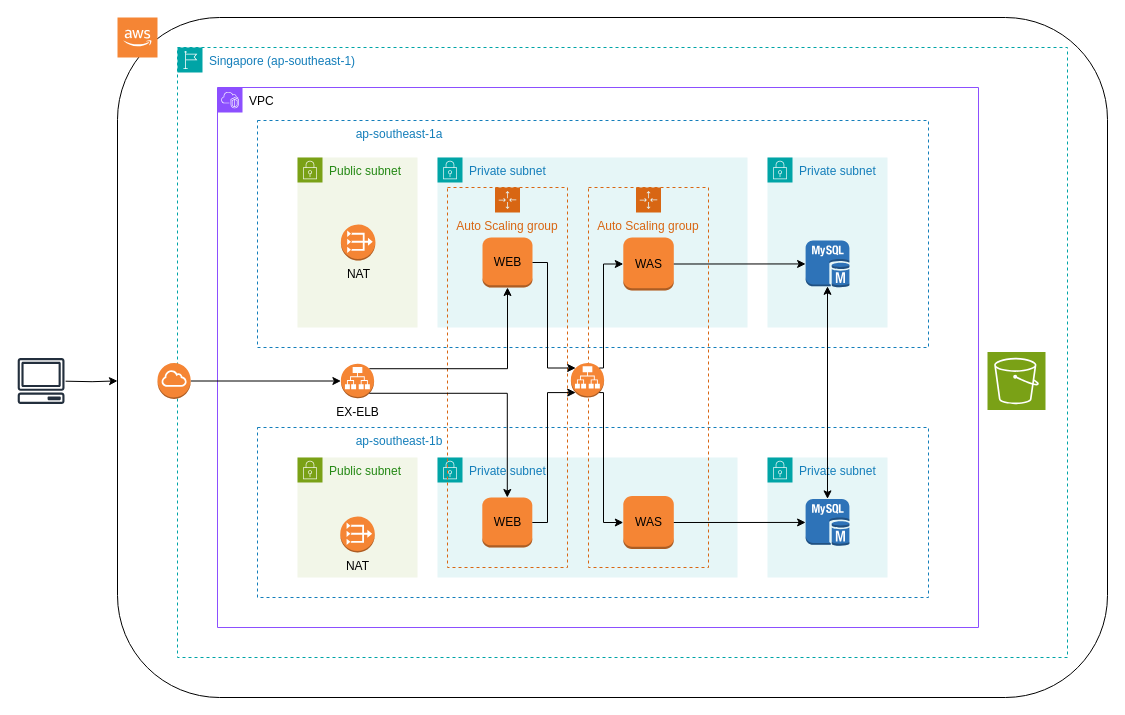
This 1125x715 diagram has some shape labels left out. Here are the shapes that lost their labels. From the top down, the centre of each, then its label:
At [40,381]: "Client".
At [173,380]: "IGW".
At [587,380]: "IN-ELB".
At [1016,380]: "S3 Bucket".
